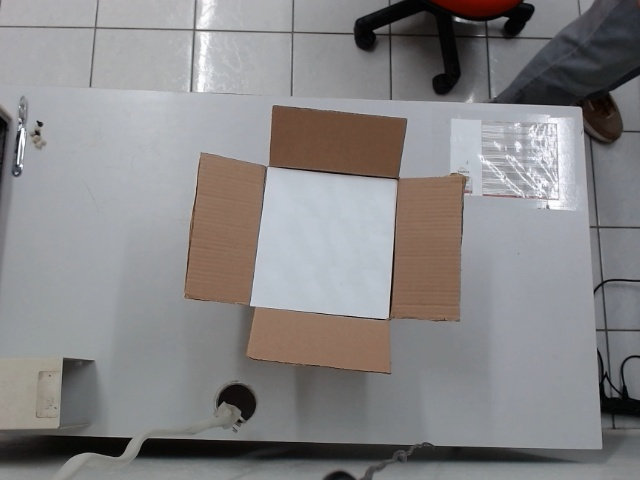divisor: (243, 162, 409, 323)
